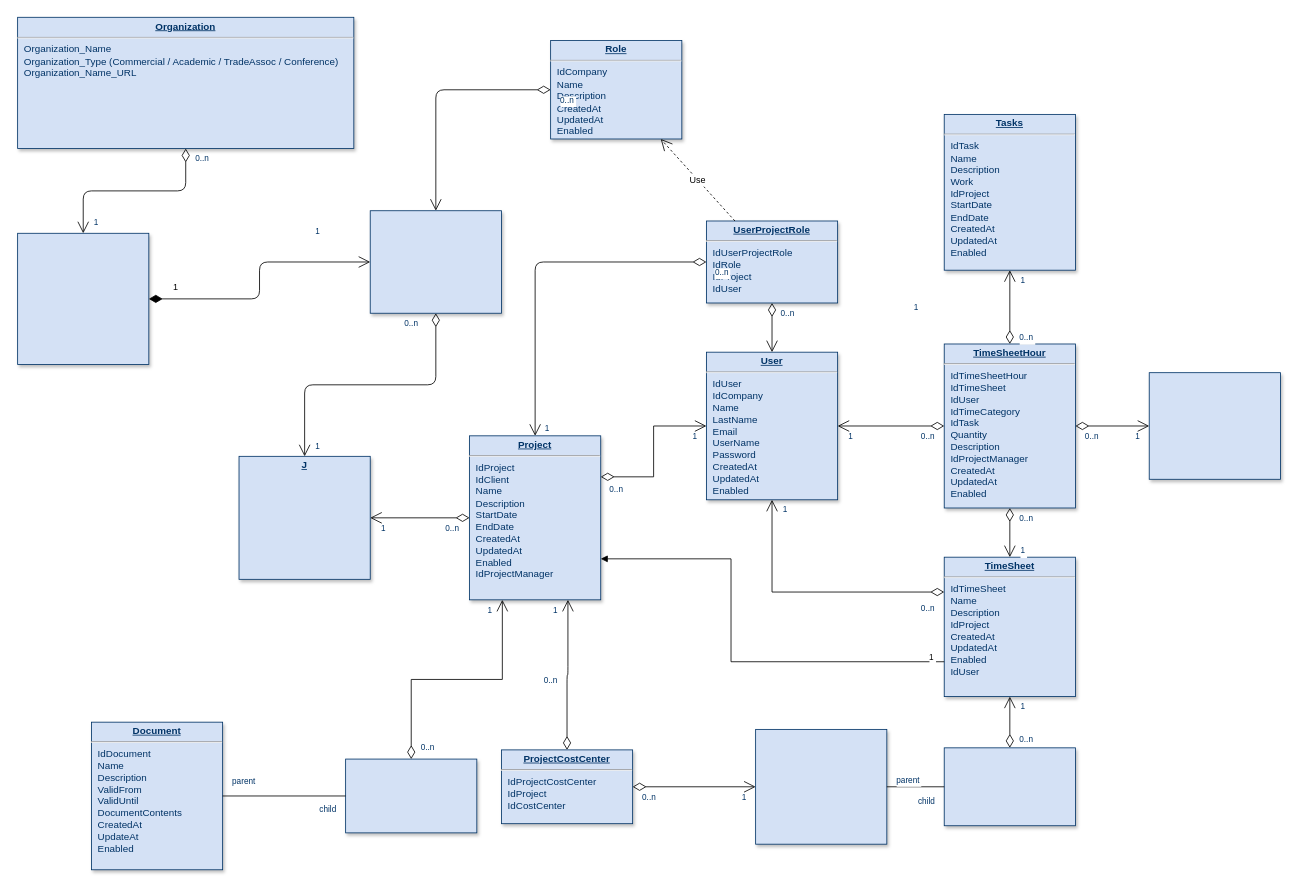
The diagram is 1300 pixels wide and 891 high, and some of its shapes have lost their labels. The centre of each missing label's shape, as x and y in pixels:
"Company Name Description CreatedAt UpdatedAt Enabled" goes at (436,263).
"CostCenter IdCostCenter Name Description CreatedAt UpdatedAt Enabled" goes at (822,787).
"Industries" goes at (84,299).
"ProjectDocument IdProjectDocument IdProject IdDocument" goes at (412,797).
"TimeCategory IdTimeCategory Name Description CreatedAt UpdatedAt Enabled" goes at (1215,427).
"TimeSheetCostCenter IdTimeSheetCostCenter IdTimeSheet IdCostCenter" goes at (1010,787).
